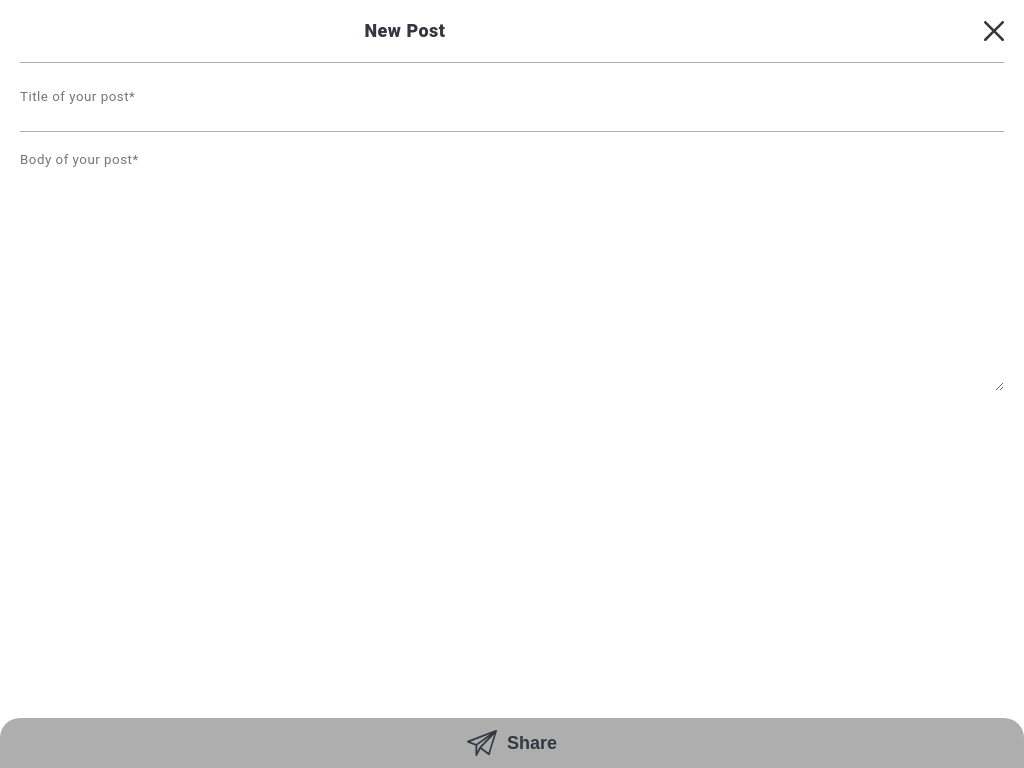
Test: Form View › Should display the home page when the X is clicked
The width and height of the screenshot is (1024, 768).
Click the picture with test id "close-button": (994, 31) [984,21,1004,41]
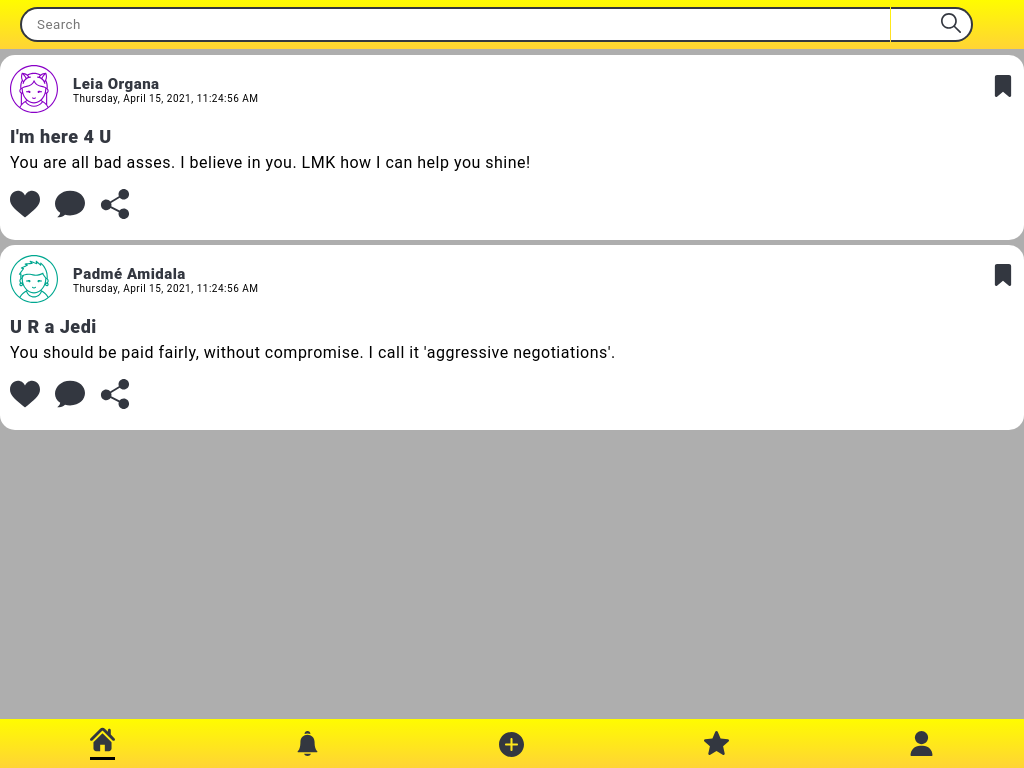
Result: the heading "U R a Jedi" is shown at [10,316,97,337]
